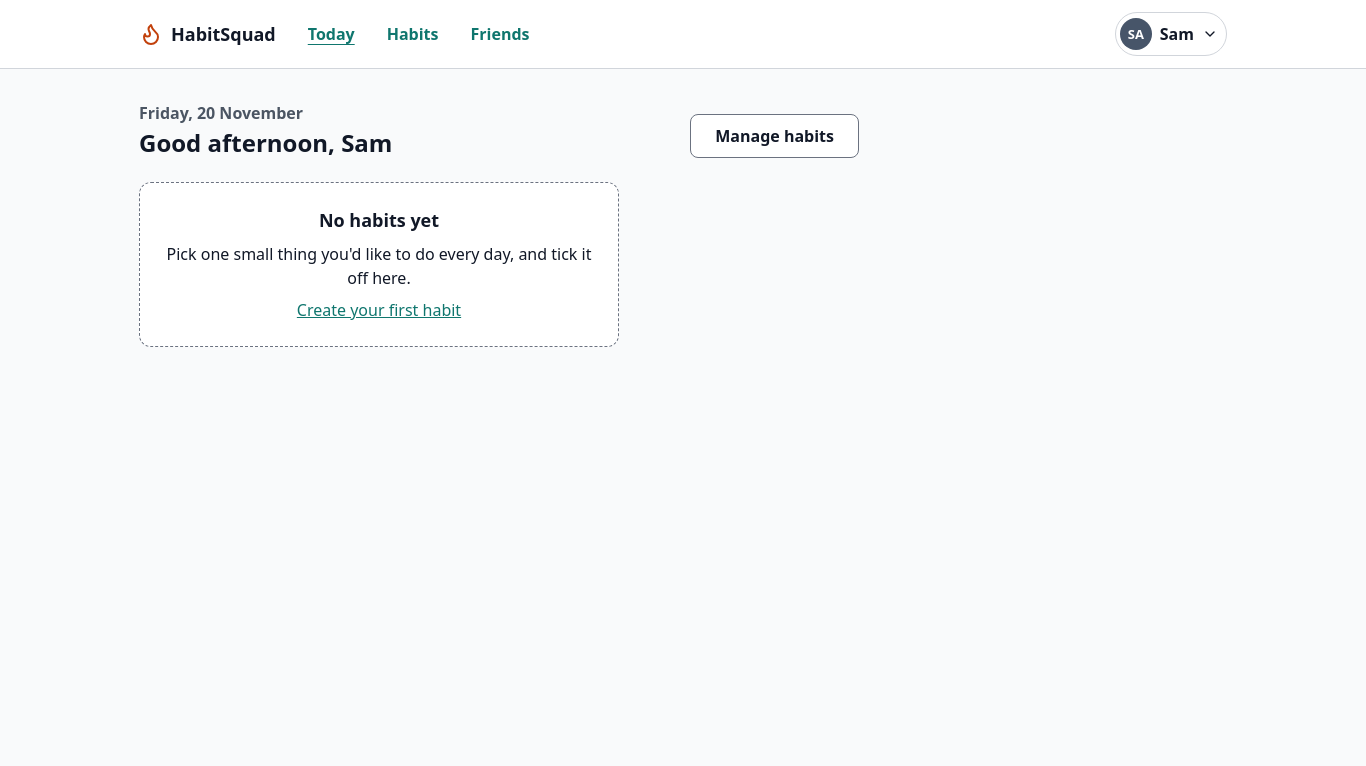
AccountMenu (header) › "Your profile" opens the profile page and closes the menu
Click the button with aria-label "Account menu for": (1171, 34) [1115,12,1227,56]
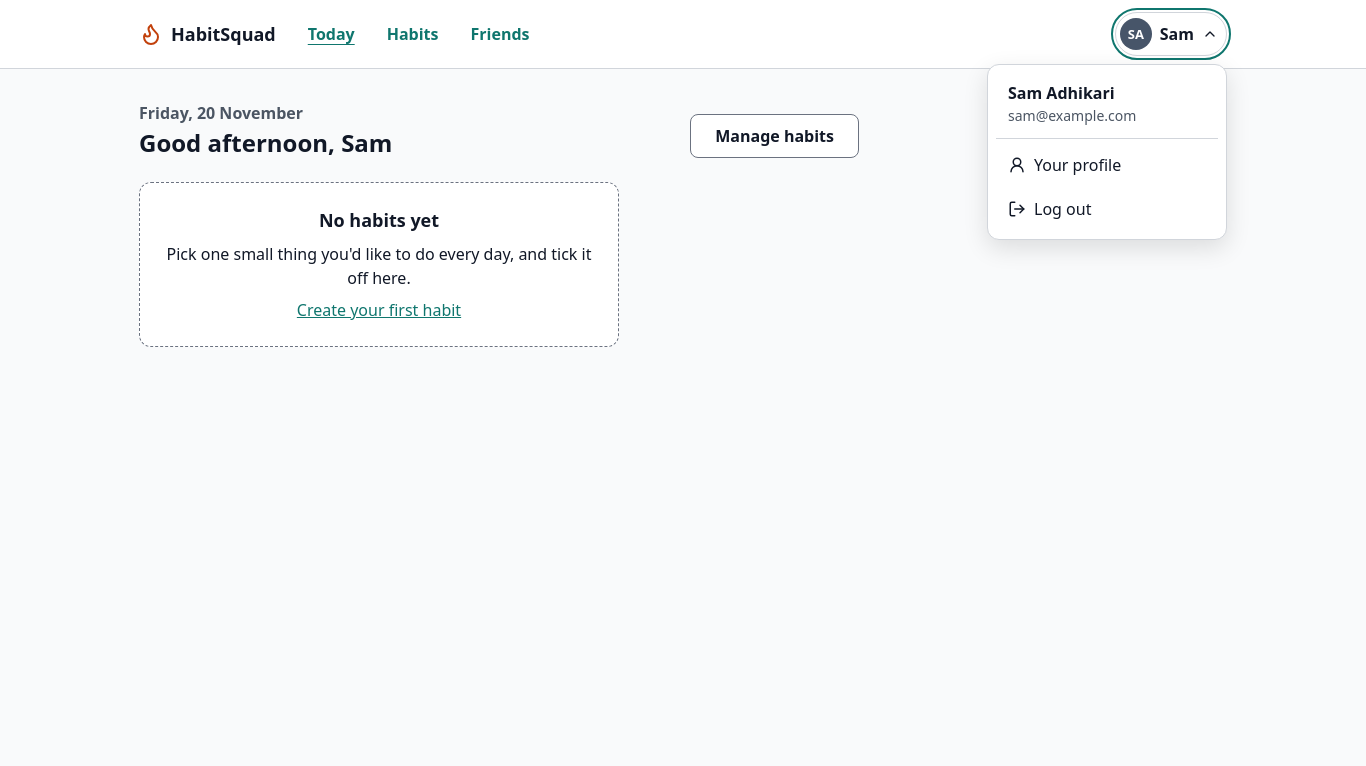
Click the link "Your profile": (1065, 165) [1008,154,1121,176]
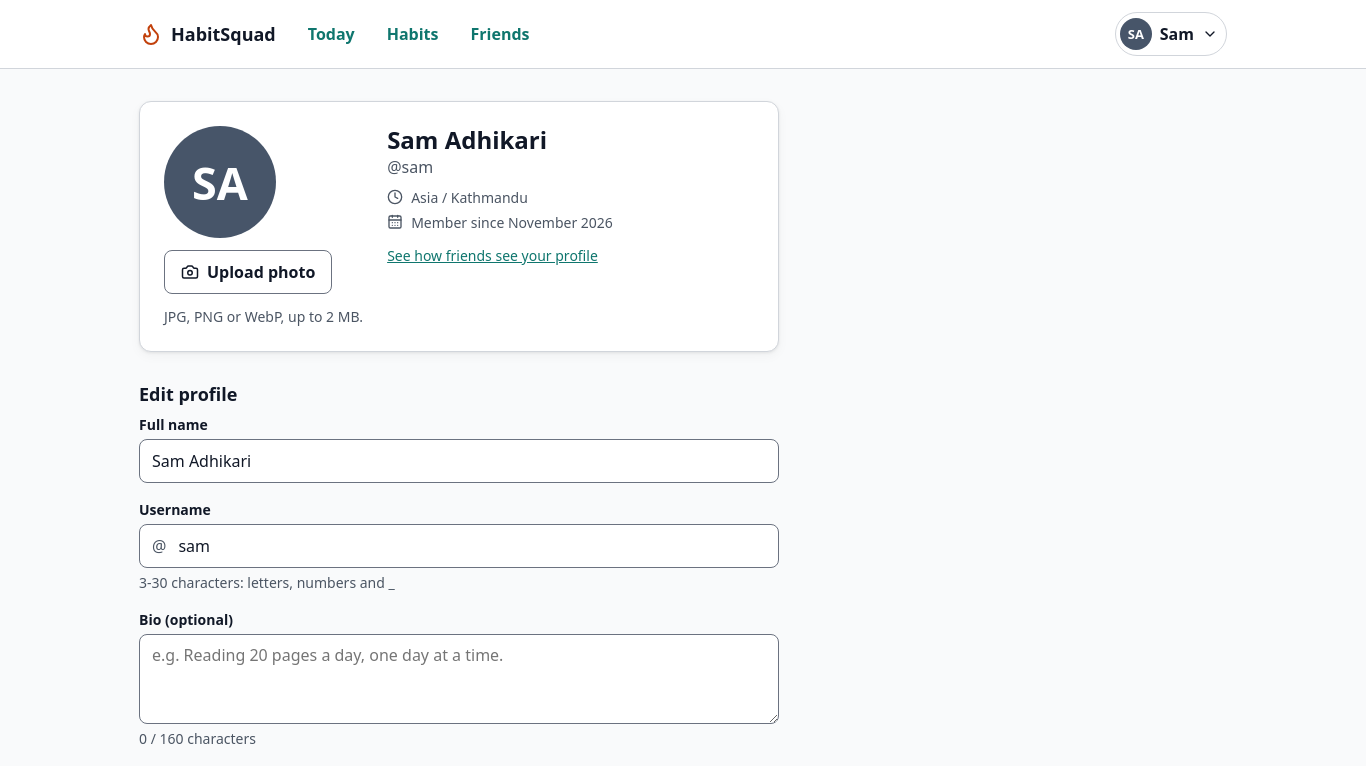
Now the heading "Sam Adhikari" is shown, box [387,123,547,156]
Now the button with aria-label "Account menu for" is collapsed, box [1115,12,1227,56]
